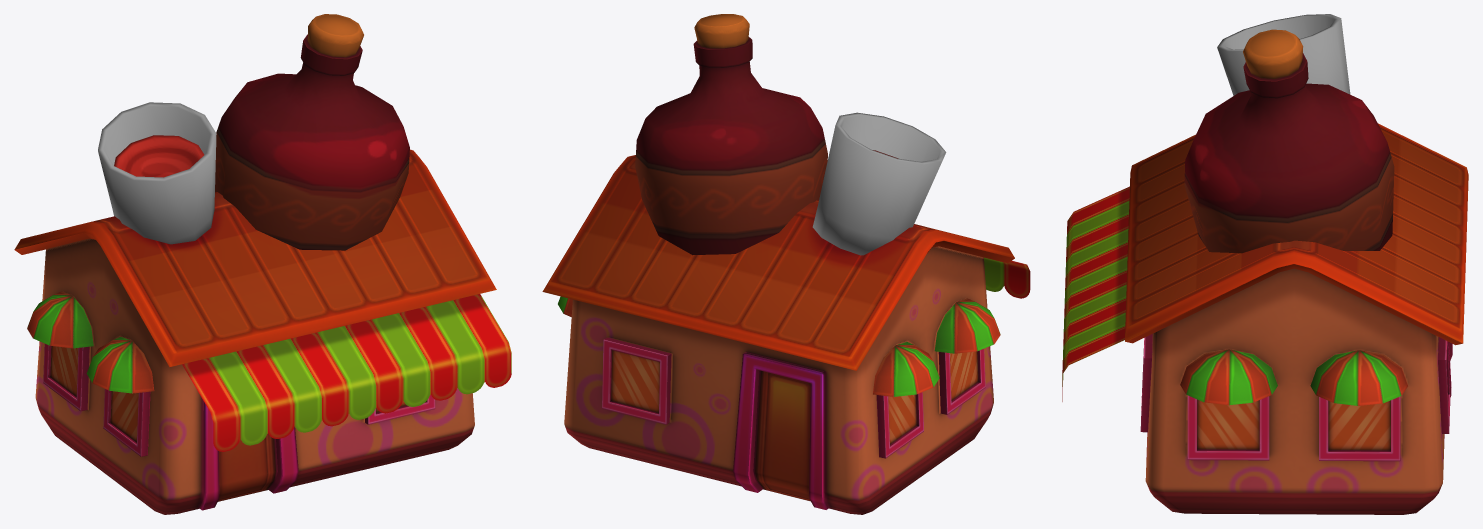
Rendered from NoAnim_WineBar.FBX.
The picture shows the model from 3 angles, left to right: view 1: azimuth 30°, elevation 25°; view 2: azimuth 150°, elevation 25°; view 3: azimuth 270°, elevation 25°; orthographic projection. The views are drawn at different scales.
Visible parts, largest first — view 1: NoAnim_WineBar; view 2: NoAnim_WineBar; view 3: NoAnim_WineBar.
Part boxes in pixels (x1,y1,x2,y2): NoAnim_WineBar: (14,14,511,514); NoAnim_WineBar: (542,14,1030,514); NoAnim_WineBar: (1062,14,1468,514).
Size of the model in its own units: 65.93 by 66.98 by 56.89.
